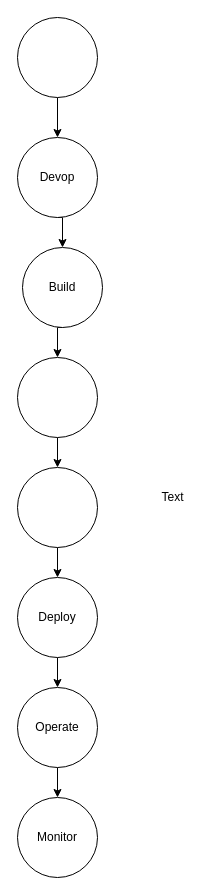
Image size: 215x895. Some labels were removed from this diagram. The shapes that lost their labels are listed below. From the top down, each one's box as (x1, y1, x2, y2) in pixels, then its label:
(16, 16, 98, 98): Plan
(16, 356, 98, 438): Test
(16, 466, 98, 548): Release
